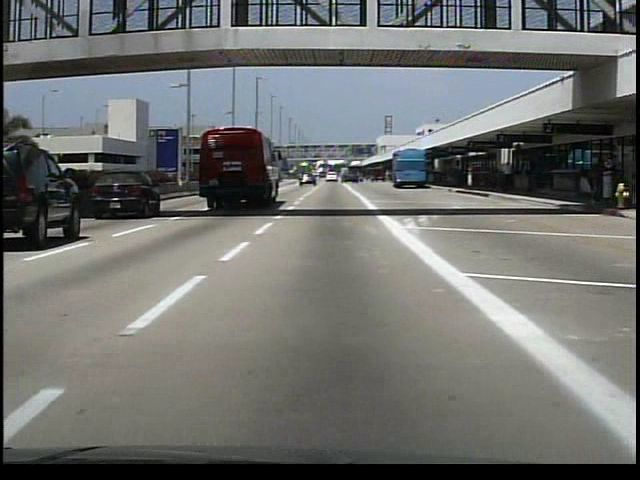person: (505, 160, 518, 192)
